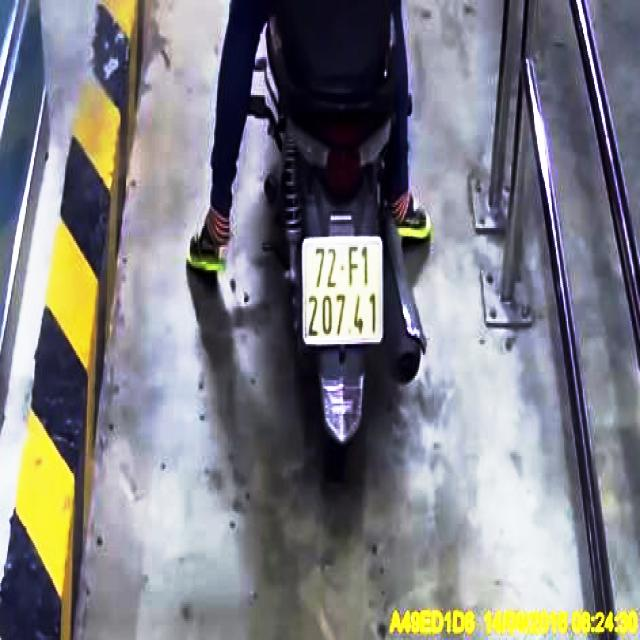license_plate: (304, 240, 386, 347)
